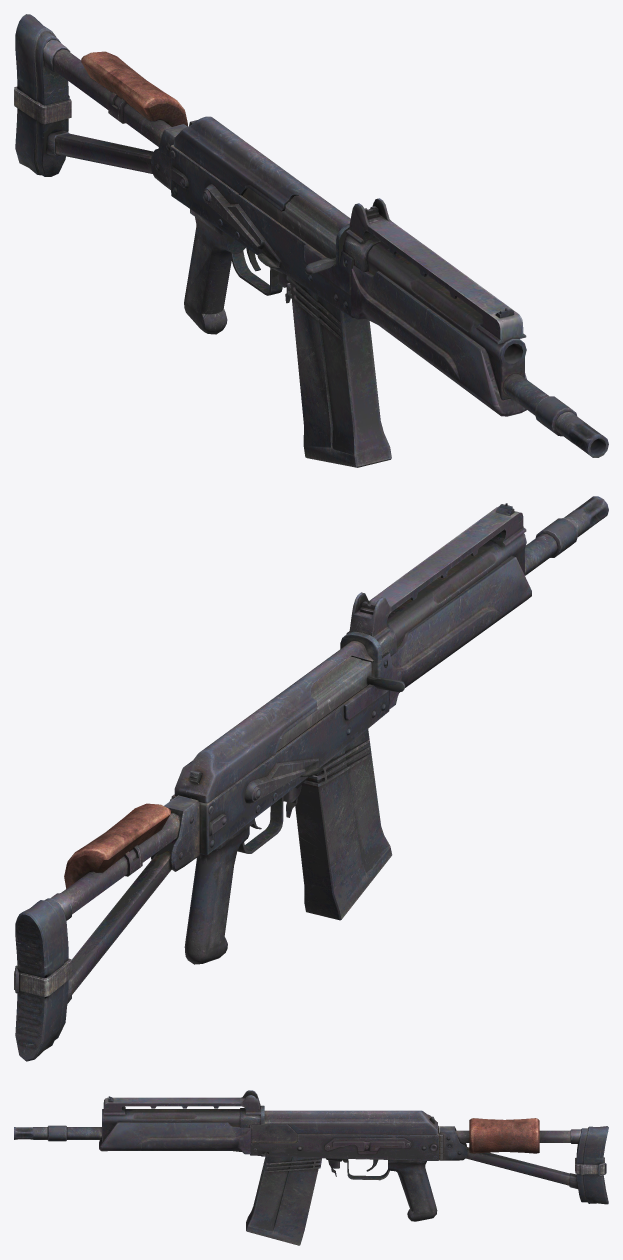
The model's file is Saiga.fbx.
3 views of the same model, one above another, from view 1: azimuth 30°, elevation 25°; view 2: azimuth 150°, elevation 25°; view 3: azimuth 270°, elevation 25° (orthographic). The views are drawn at different scales.
Parts seen in each view (by area): view 1: Mesh_0010, Mag, Bolt; view 2: Mesh_0010, Mag, Bolt; view 3: Mesh_0010, Mag.
Part boxes in pixels (bbox=[...]): Mesh_0010: bbox=[14, 14, 608, 457]; Mag: bbox=[286, 276, 391, 467]; Bolt: bbox=[242, 188, 338, 274]; Mesh_0010: bbox=[14, 496, 608, 1061]; Mag: bbox=[295, 729, 392, 920]; Bolt: bbox=[277, 656, 405, 751]; Mesh_0010: bbox=[14, 1090, 608, 1221]; Mag: bbox=[246, 1156, 321, 1245].
Size of the model in its own units: 6.97 by 23.41 by 84.96.
Materials: 2 (2 with a texture image).
